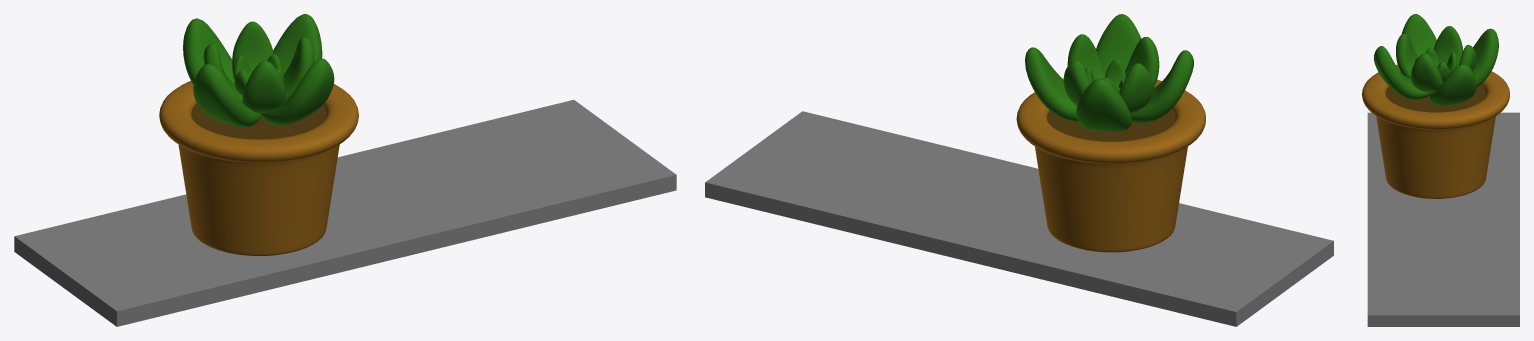
The model's file is plant.glb.
The picture shows the model from 3 angles, left to right: view 1: azimuth 30°, elevation 25°; view 2: azimuth 150°, elevation 25°; view 3: azimuth 270°, elevation 25°; orthographic projection. The views are drawn at different scales.
Parts seen in each view (by area): view 1: Cube.016, Cylinder, Cube.007, Cube.006, Cylinder.001, Cube.002, Cube.004, Cube.005, Cube, Cube.001, Cube.003; view 2: Cube.016, Cylinder, Cube.004, Cube.005, Cube.007, Cylinder.001, Cube.006, Cube.003, Cube.001, Cube.002, Cube; view 3: Cube.016, Cylinder, Cube.005, Cube.006, Cylinder.001, Cube.004, Cube.001, Cube.007, Cube.003, Cube.002, Cube, Cube.009 (+2 smaller).
Part boxes in pixels (x1,y1,x2,y2): Cube.016: [14, 100, 676, 326]; Cylinder: [159, 81, 358, 255]; Cube.007: [193, 63, 261, 127]; Cube.006: [261, 58, 334, 125]; Cylinder.001: [191, 103, 326, 139]; Cube.002: [242, 60, 285, 113]; Cube.004: [183, 18, 234, 84]; Cube.005: [273, 14, 322, 74]; Cube: [232, 21, 273, 80]; Cube.001: [283, 37, 314, 100]; Cube.003: [203, 43, 242, 101]; Cube.016: [705, 111, 1333, 326]; Cylinder: [1016, 79, 1205, 252]; Cube.004: [1076, 78, 1131, 131]; Cube.005: [1025, 47, 1077, 121]; Cube.007: [1130, 50, 1193, 122]; Cylinder.001: [1047, 109, 1175, 141]; Cube.006: [1096, 14, 1141, 73]; Cube.003: [1119, 63, 1152, 113]; Cube.001: [1067, 34, 1105, 79]; Cube.002: [1125, 37, 1159, 88]; Cube: [1063, 59, 1090, 105]; Cube.016: [1367, 112, 1519, 326]; Cylinder: [1362, 64, 1509, 198]; Cube.005: [1429, 64, 1476, 106]; Cube.006: [1373, 46, 1430, 99]; Cylinder.001: [1385, 84, 1486, 112]; Cube.004: [1473, 28, 1498, 87]; Cube.001: [1411, 53, 1442, 92]; Cube.007: [1401, 14, 1436, 57]; Cube.003: [1433, 26, 1463, 66]; Cube.002: [1396, 33, 1417, 79]; Cube: [1458, 44, 1476, 71]; Cube.009: [1437, 62, 1449, 81].
Bounding box in the file's own units: 2.72 × 0.9715 × 0.8962.
